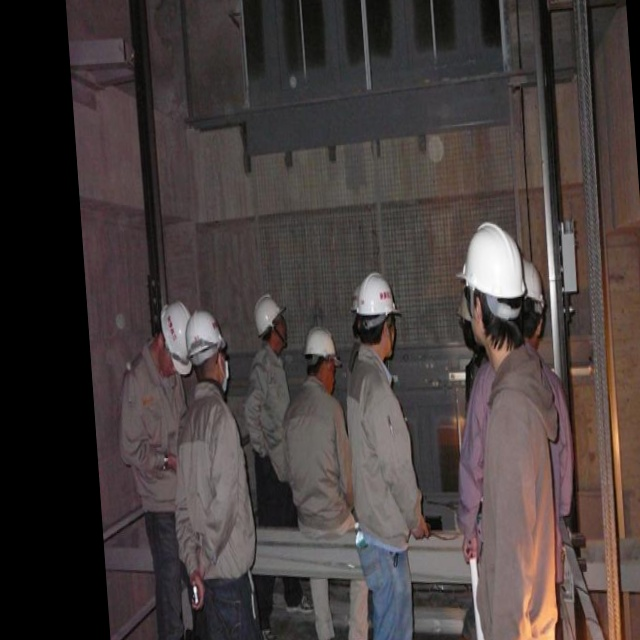Con_Casco: (461, 222, 529, 342), (354, 271, 400, 356)
